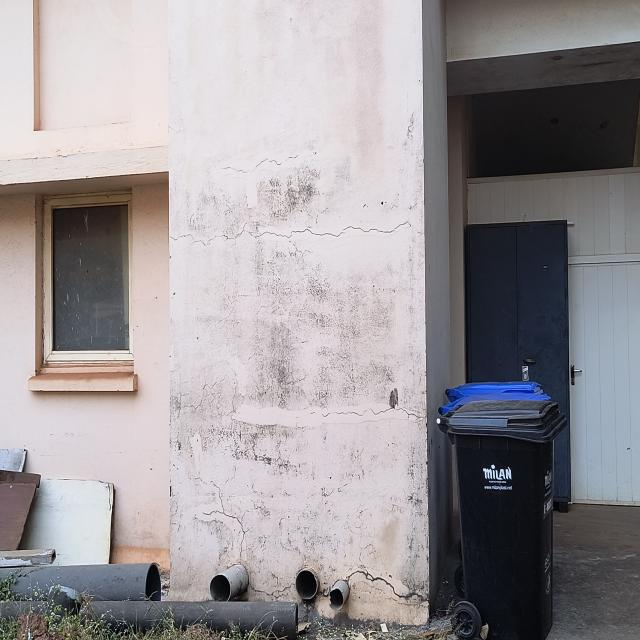Crack: (170, 218, 414, 248), (198, 476, 251, 560), (346, 567, 427, 604), (218, 153, 308, 178), (319, 405, 427, 420)
